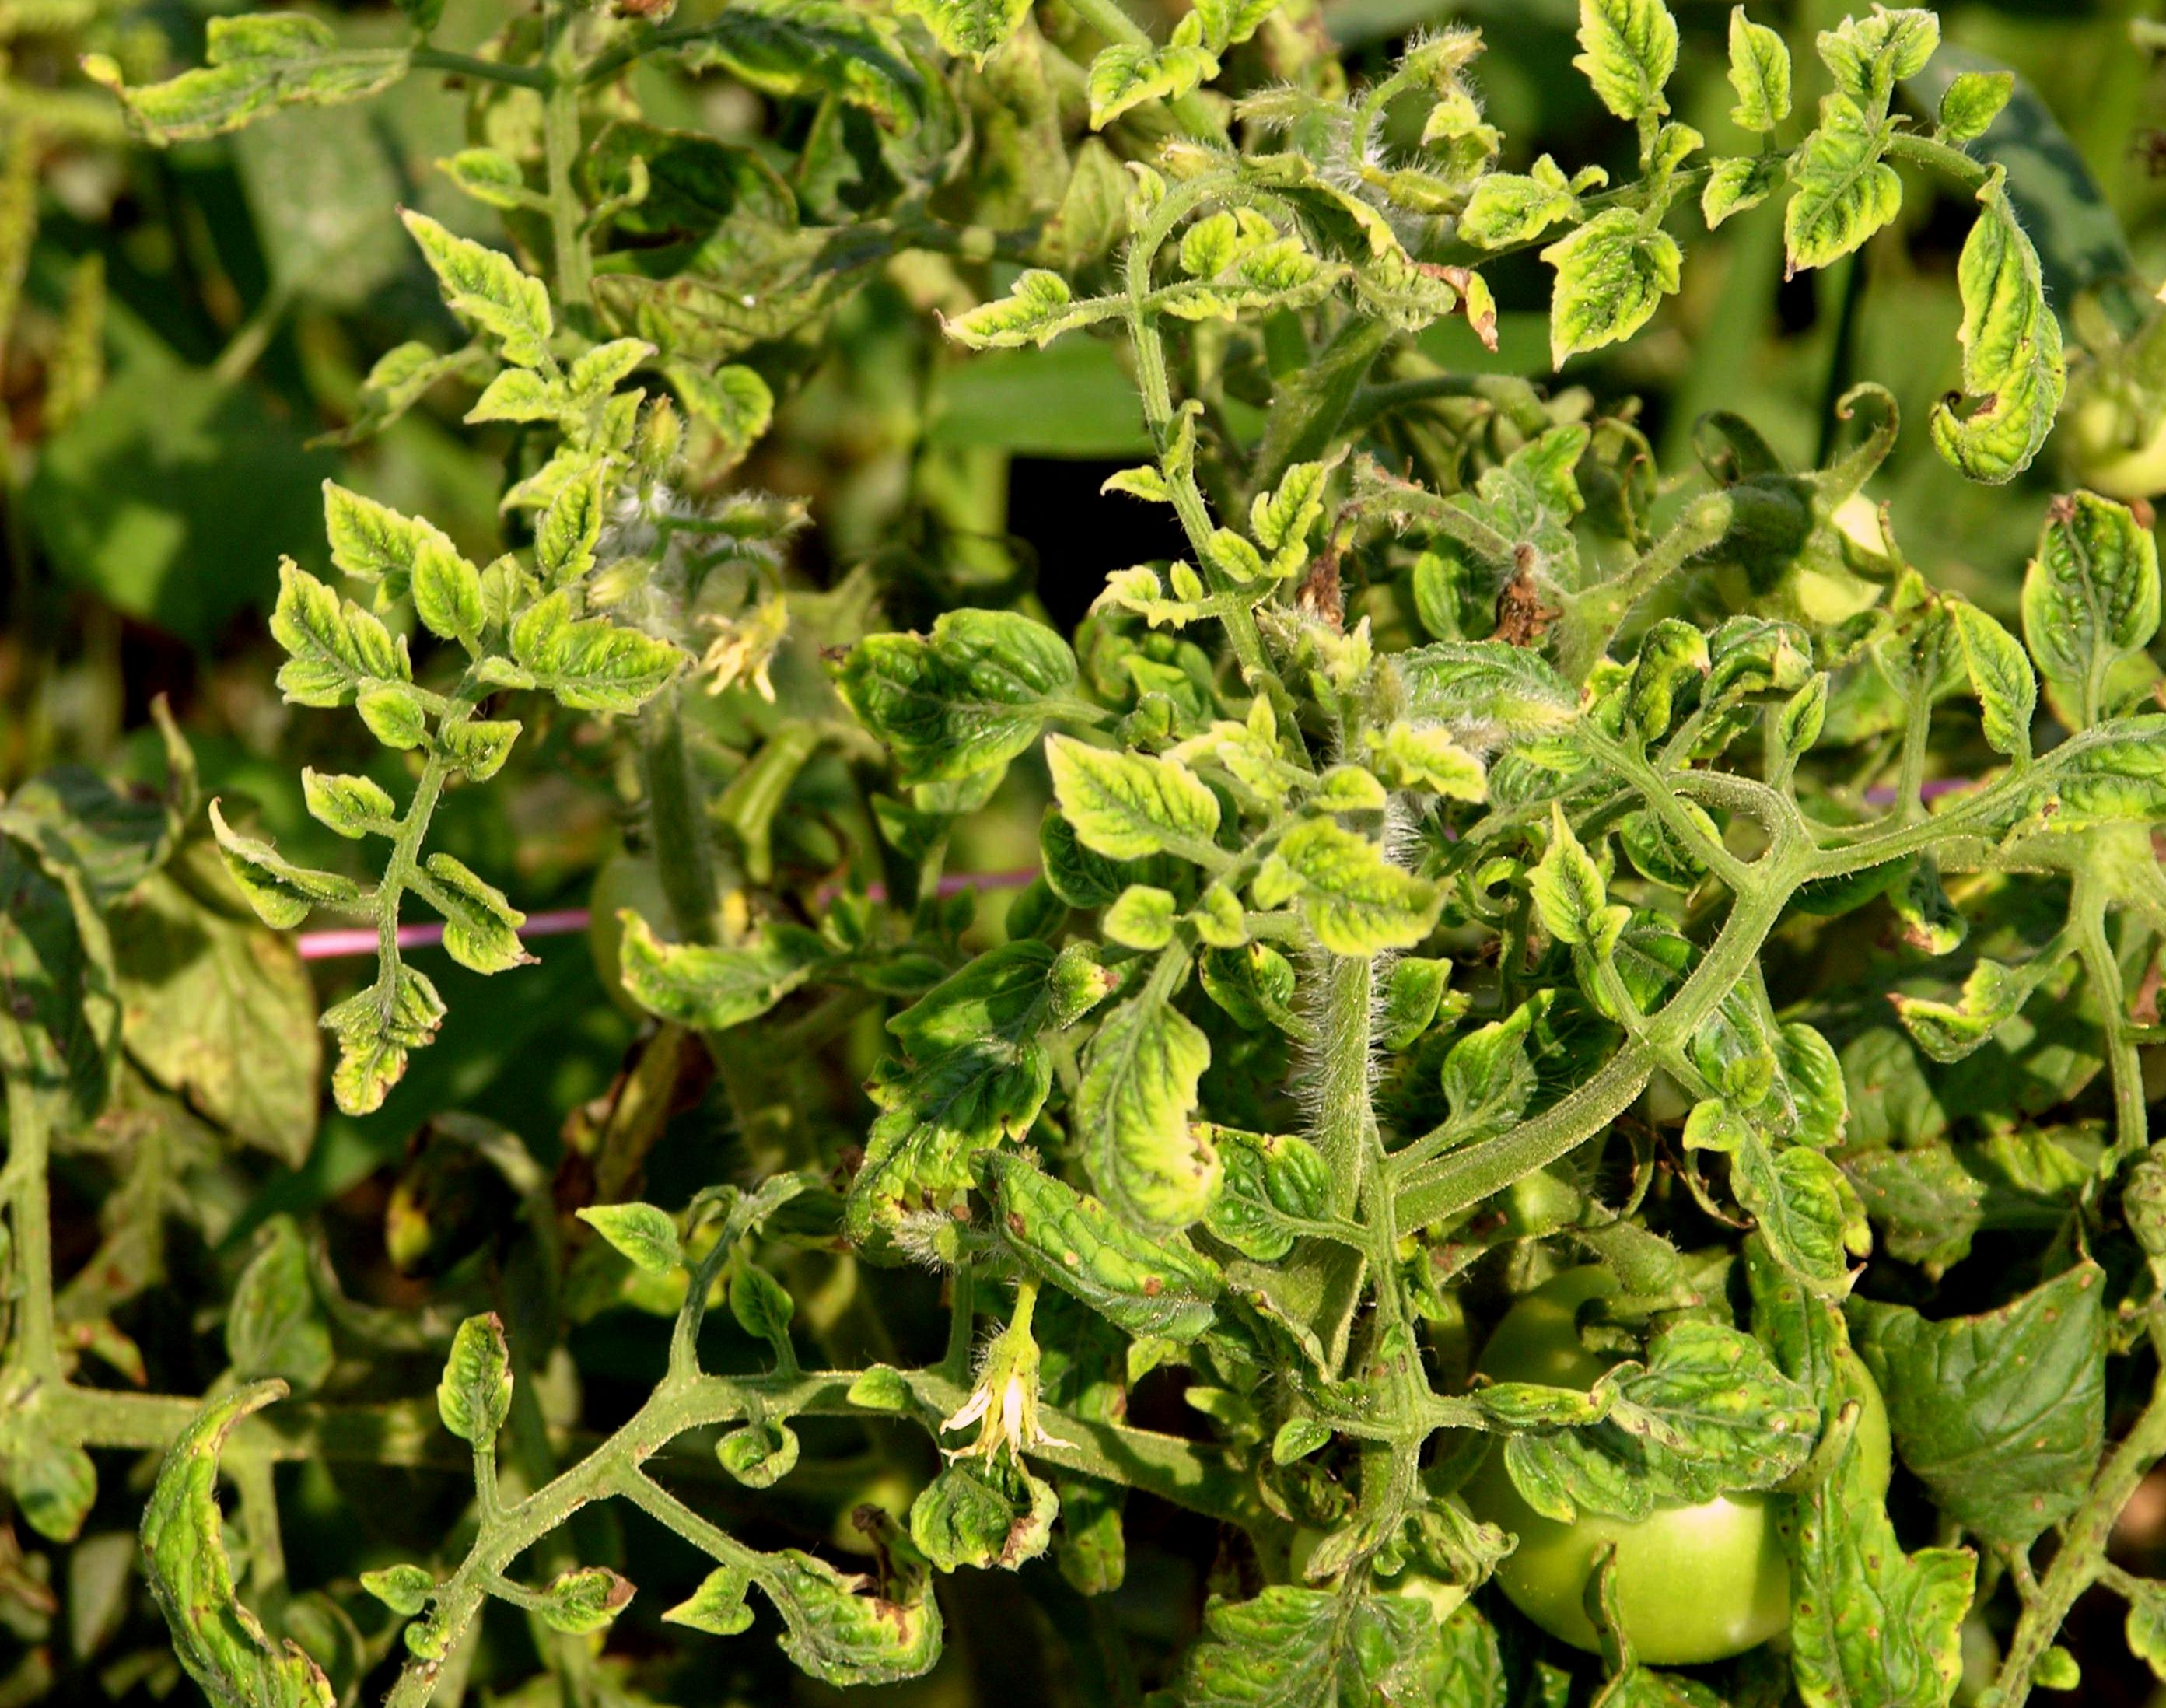Tomato leaf yellow virus: (1443, 1310, 1922, 1553), (69, 1432, 360, 1708), (779, 600, 1104, 814), (1171, 769, 1475, 982), (1784, 1439, 2017, 1708), (962, 1129, 1220, 1363), (1700, 1068, 1897, 1369), (1923, 188, 2076, 505), (721, 1513, 967, 1708), (253, 565, 447, 795), (1758, 60, 1937, 306), (1021, 695, 1234, 885), (1067, 996, 1231, 1238), (1514, 190, 1690, 410), (2013, 489, 2166, 718), (308, 957, 483, 1140), (392, 199, 585, 362), (1125, 201, 1348, 313), (919, 260, 1090, 392), (1547, 0, 1714, 134), (318, 480, 462, 593), (856, 0, 1041, 86), (1074, 33, 1196, 158)
